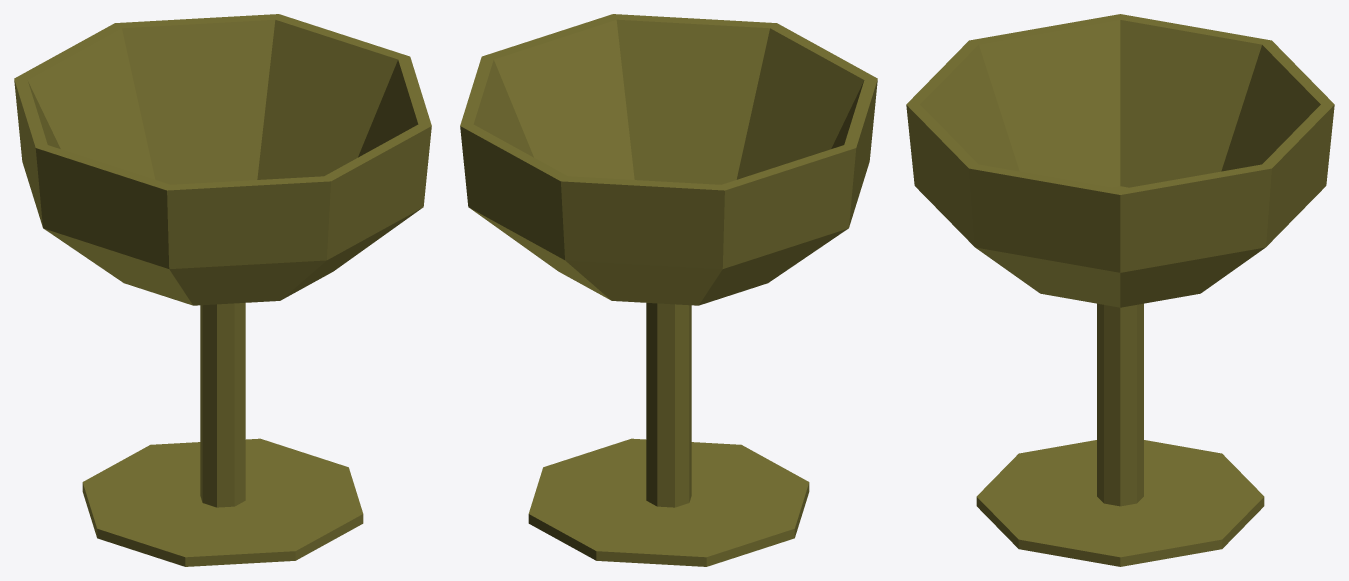
Rendered from Cup_01.fbx.
The picture shows the model from 3 angles, left to right: view 1: azimuth 30°, elevation 25°; view 2: azimuth 150°, elevation 25°; view 3: azimuth 270°, elevation 25°; orthographic projection.
Parts seen in each view (by area): view 1: Cup_01; view 2: Cup_01; view 3: Cup_01.
Part boxes in pixels (x1,y1,x2,y2): Cup_01: (14, 14, 431, 566); Cup_01: (460, 14, 877, 566); Cup_01: (906, 14, 1334, 566).
Bounding box in the file's own units: 20.08 × 20.77 × 20.08.
